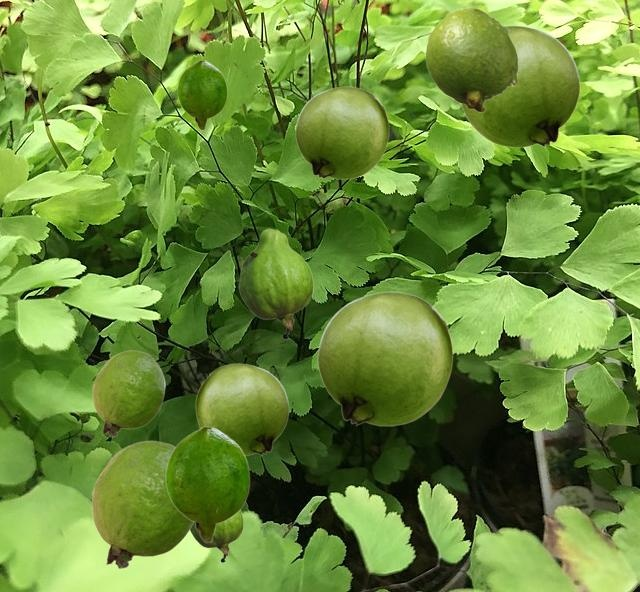guava: (317, 291, 452, 425), (460, 25, 579, 147), (91, 440, 193, 568), (165, 426, 249, 542), (425, 7, 517, 111), (195, 363, 288, 455), (295, 86, 388, 178), (238, 228, 312, 338), (92, 350, 164, 436), (177, 60, 226, 129), (190, 510, 242, 561)
